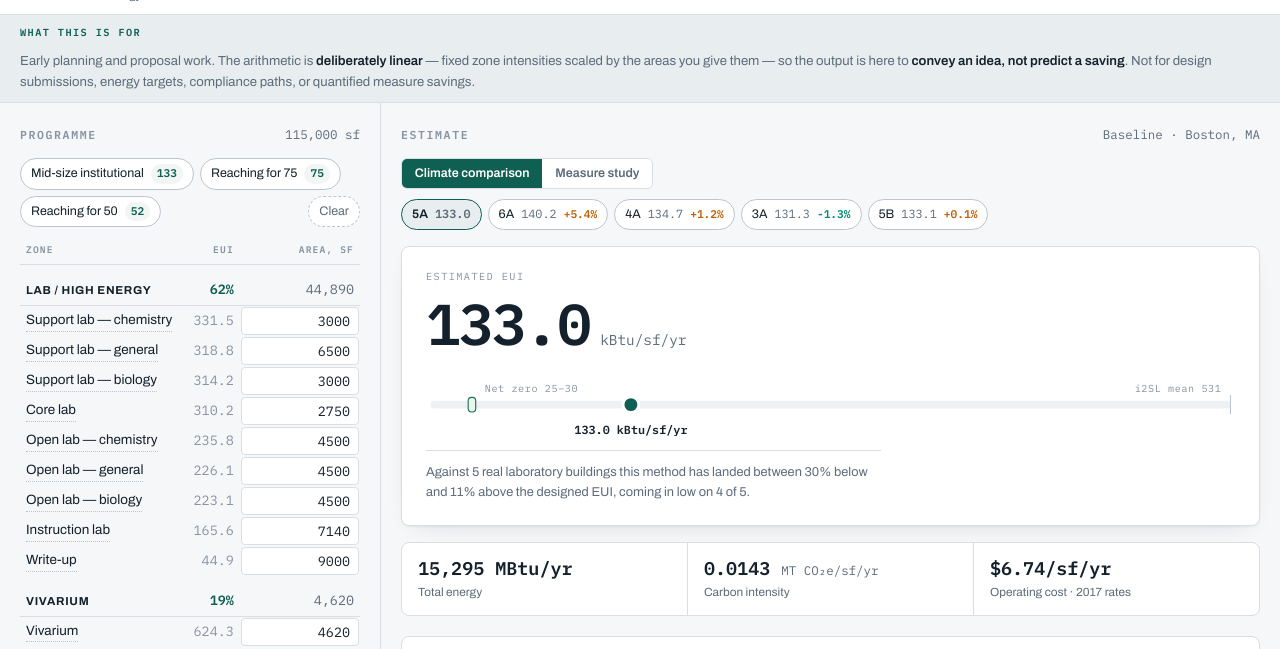
the comparison strip › answers which zones respond rather than how much is saved
The width and height of the screenshot is (1280, 649).
Click the button "Measure study": (597, 174) [542,159,652,188]
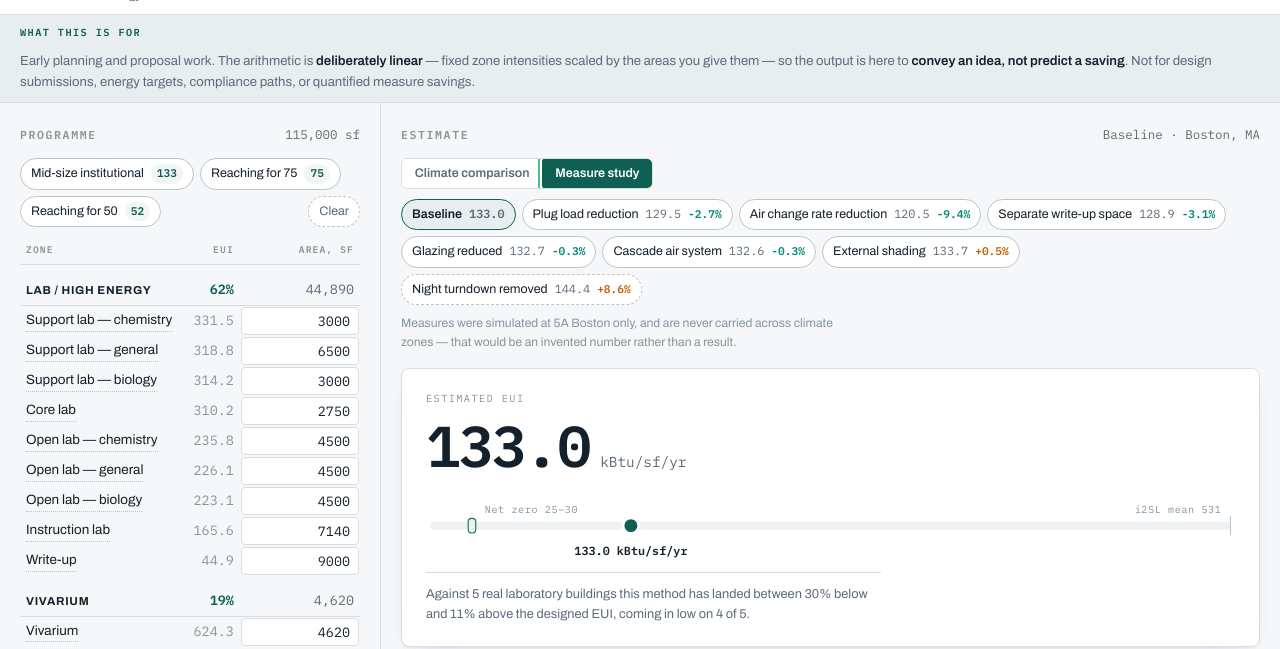
Click the button "Air change rate reduction 120.5 -9.4%": (860, 215) [739,199,981,230]
(page scrolled)
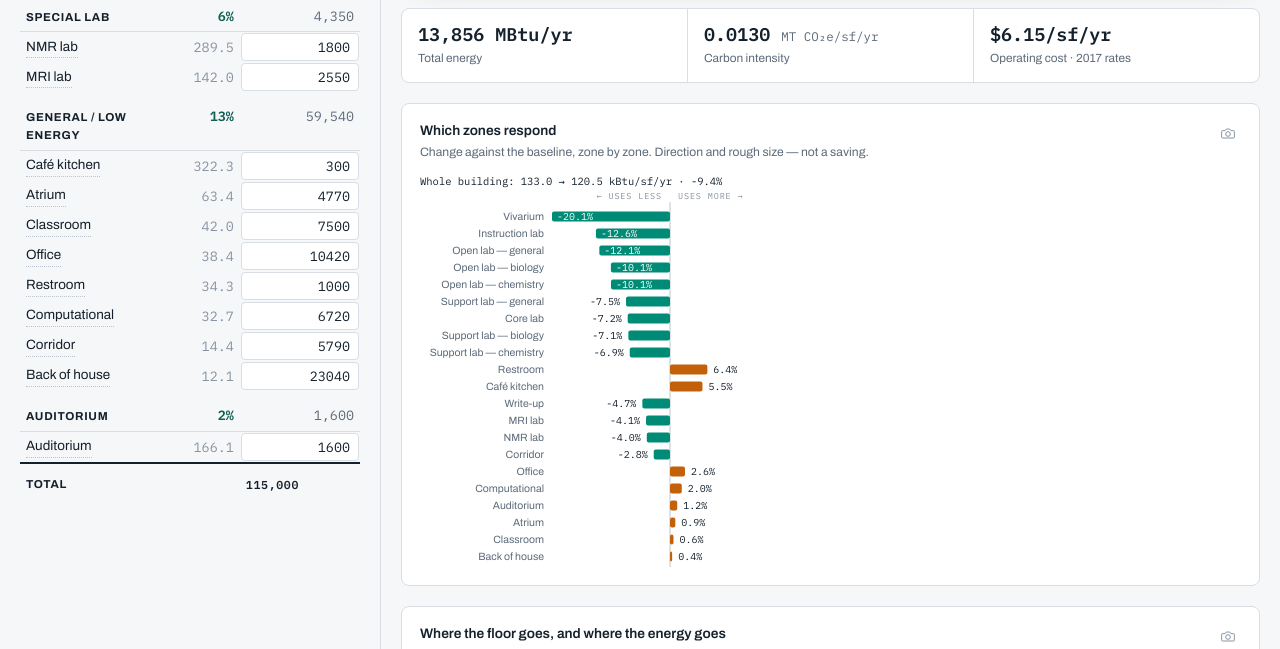
expect the element "Which zones respond" shows "not a saving": met, box [420,145,869,159]
